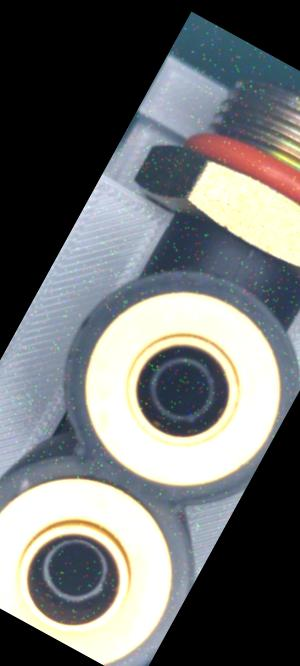joint line: (227, 257, 246, 281)
white mark: (244, 245, 259, 260)
